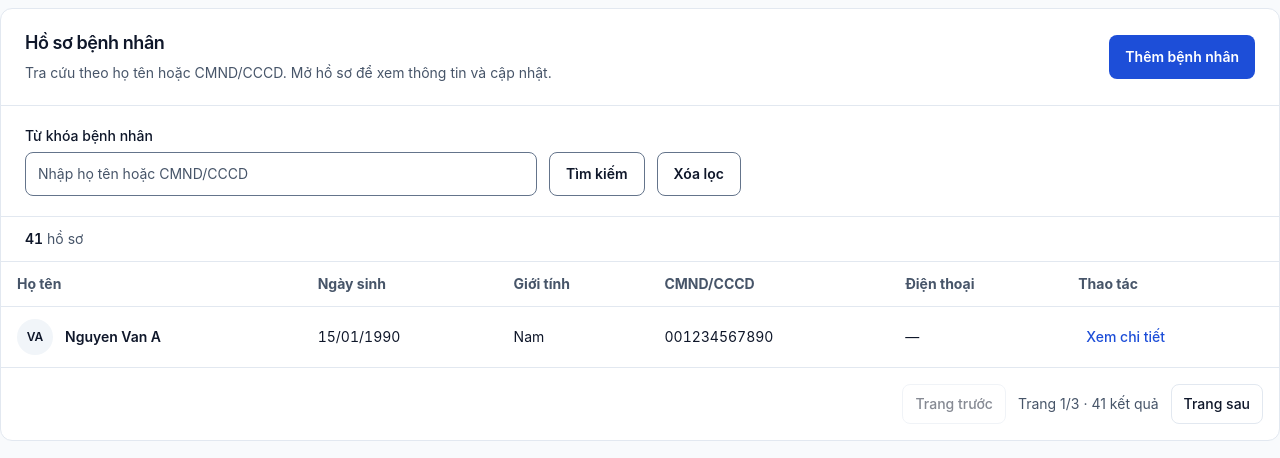
Test case: PatientTable read logic › shows a network error without stale rows and retries the same query
This screenshot has width=1280, height=458.
Check: the link with aria-label "Xem chi tiết Nguyen Van A" is shown, box [1086,328,1165,345]
In the search field labelled "Từ khóa bệnh nhân": x=281, y=174 [25,152,537,196], type "retry me"
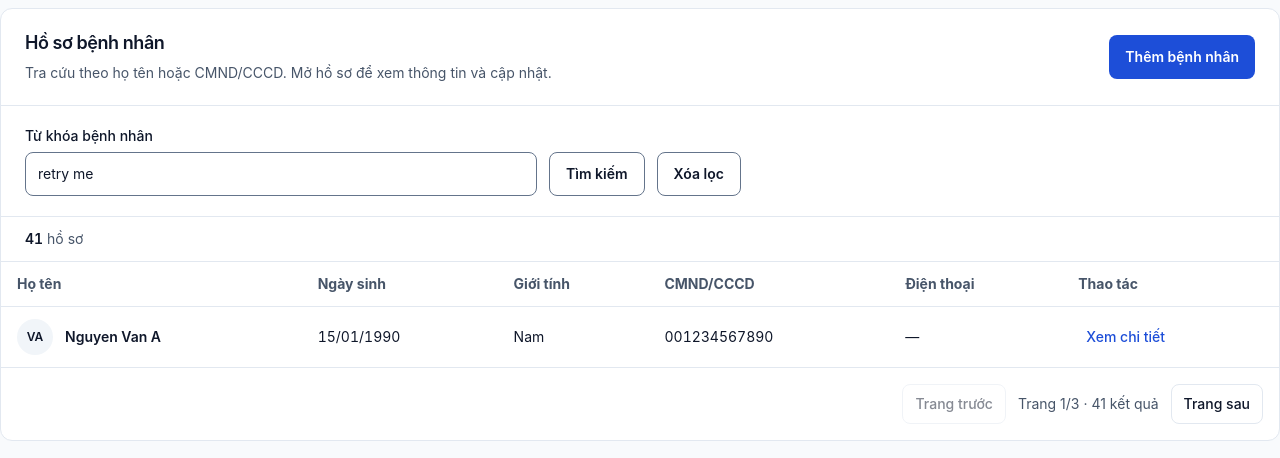
Submit the form labelled "Từ khóa bệnh nhân", box [1,105,1279,216]
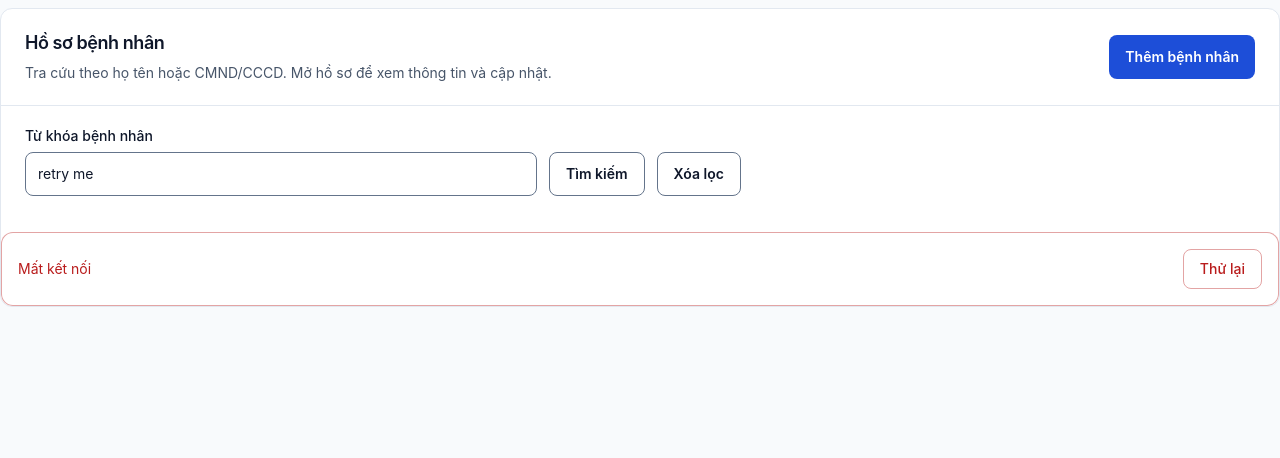
Check: the message shows "Mất kết nối", box [18,260,91,277]
Check: the table is gone
Click the button "Thử lại": x=1222, y=269 [1183,249,1262,289]
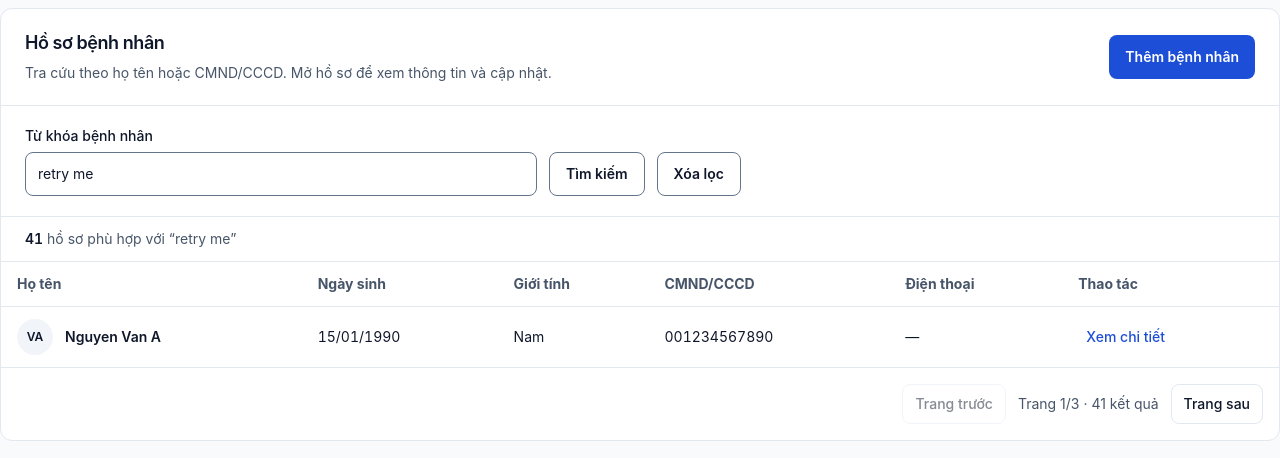
Check: the link with aria-label "Xem chi tiết Nguyen Van A" is shown, box [1086,328,1165,345]
